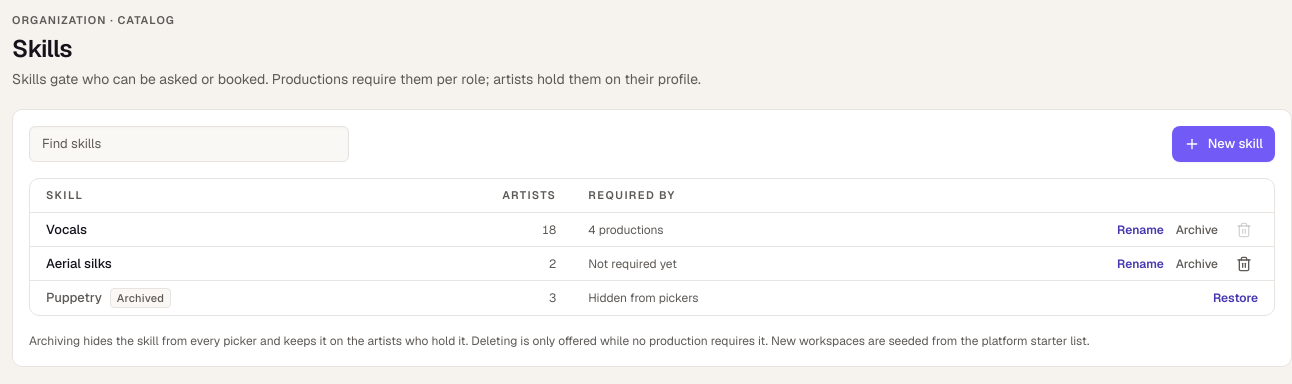
Test case: SkillsTab › shows a no-match message when the search filters out every row
Type "zzz-no-match" into the field with placeholder "Find skills" at coordinates (189, 144), box [29,126,349,162]
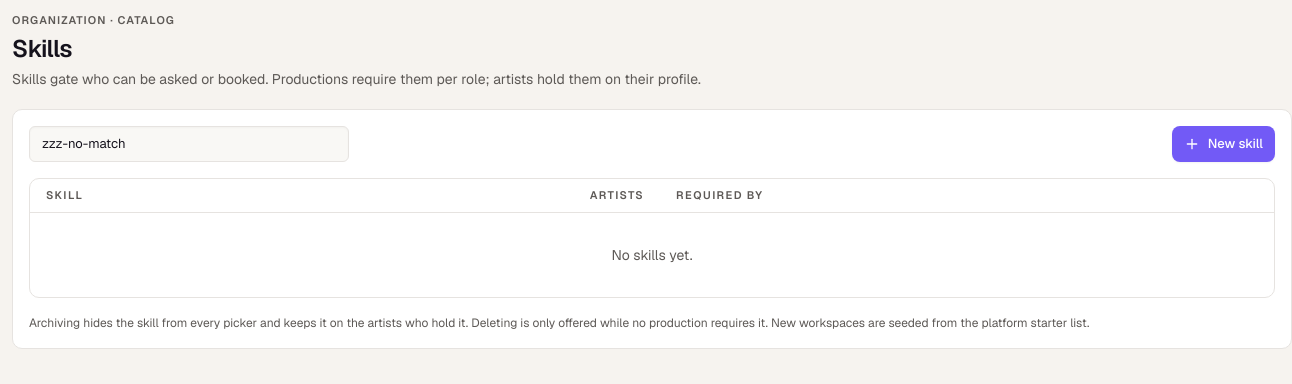
Check: the text "No skills match your search." is shown, box [30,212,1274,297]
